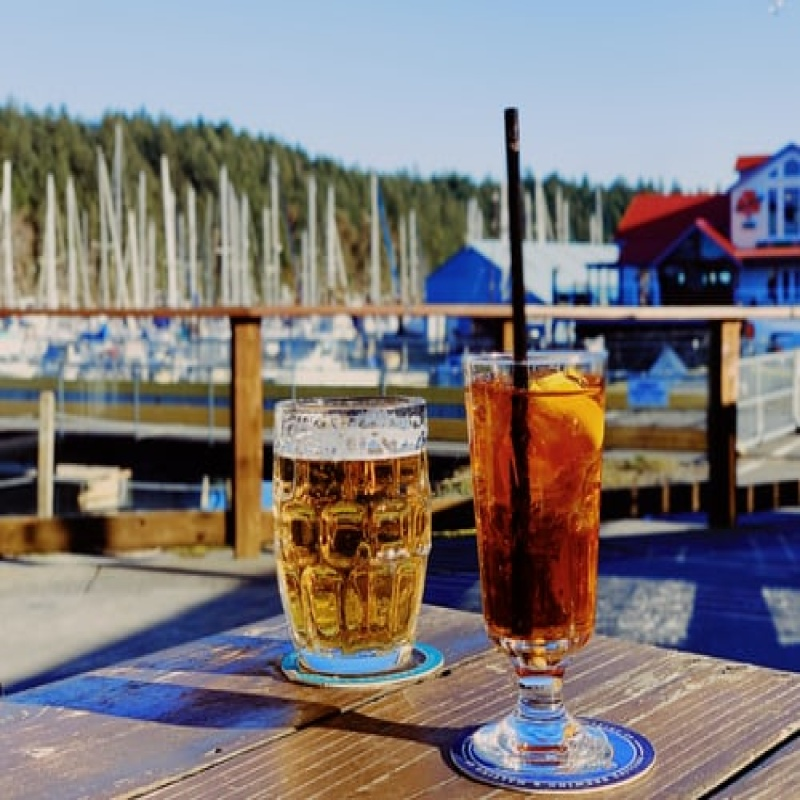whiskey: (294, 387, 444, 687), (475, 348, 610, 674)
